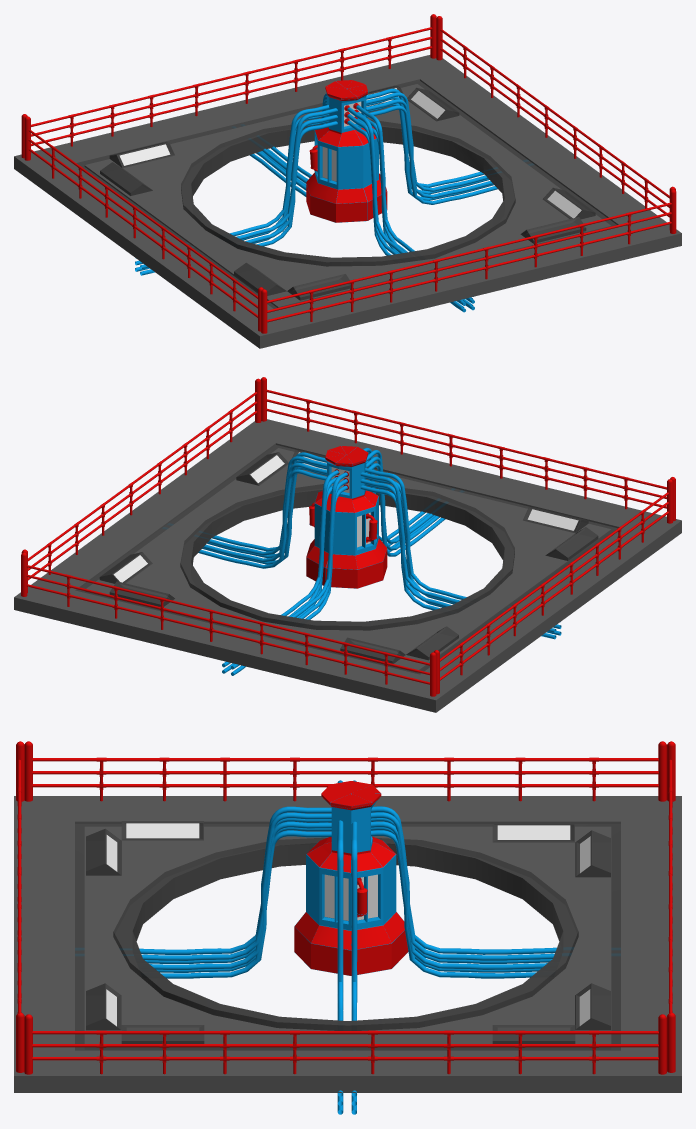
Rendered from centro.fbx.
3 renders of one model, top to bottom at view 1: azimuth 30°, elevation 25°; view 2: azimuth 150°, elevation 25°; view 3: azimuth 270°, elevation 25°, orthographic. The views are drawn at different scales.
Parts seen in each view (by area): view 1: pCube5, pasted__polySurface41, pCylinder37, pCylinder39, pCylinder38, pCube25, pCube26, pCylinder15, pCube24, pCylinder3, pCylinder16, pCube21 (+1 smaller); view 2: pCube5, pasted__polySurface41, pCylinder37, pCylinder39, pCylinder38, pCube26, pCube24, pCylinder3, pCylinder15, pCube25, pCylinder16, pCube20 (+1 smaller); view 3: pCube5, pasted__polySurface41, pCylinder38, pCylinder39, pCube26, pCube24, pCube25, pCylinder37, pCube20, pCube21, pCylinder3.
Part boxes in pixels (bbox=[...]): pCube5: bbox=[14, 55, 681, 348]; pasted__polySurface41: bbox=[135, 80, 497, 312]; pCylinder37: bbox=[21, 14, 436, 158]; pCylinder39: bbox=[24, 116, 263, 331]; pCylinder38: bbox=[436, 16, 675, 229]; pCube25: bbox=[520, 187, 595, 243]; pCube26: bbox=[234, 262, 350, 300]; pCylinder15: bbox=[267, 212, 671, 312]; pCube24: bbox=[366, 86, 459, 121]; pCylinder3: bbox=[267, 202, 671, 303]; pCylinder16: bbox=[267, 221, 671, 322]; pCube21: bbox=[109, 142, 174, 168]; pCube5: bbox=[14, 419, 681, 712]; pasted__polySurface41: bbox=[198, 446, 561, 675]; pCylinder37: bbox=[21, 552, 436, 696]; pCylinder39: bbox=[434, 479, 672, 694]; pCylinder38: bbox=[21, 378, 261, 592]; pCube26: bbox=[523, 507, 598, 560]; pCube24: bbox=[99, 552, 174, 606]; pCylinder3: bbox=[266, 389, 666, 489]; pCylinder15: bbox=[266, 399, 666, 499]; pCube25: bbox=[236, 450, 326, 485]; pCylinder16: bbox=[266, 408, 666, 508]; pCube20: bbox=[406, 626, 458, 660]; pCube5: bbox=[14, 796, 681, 1092]; pasted__polySurface41: bbox=[139, 780, 556, 1114]; pCylinder38: bbox=[24, 1014, 666, 1074]; pCylinder39: bbox=[24, 741, 666, 801]; pCube26: bbox=[86, 821, 203, 875]; pCube24: bbox=[492, 983, 610, 1043]; pCube25: bbox=[86, 983, 204, 1043]; pCylinder37: bbox=[667, 741, 675, 1072]; pCube20: bbox=[492, 823, 574, 842]; pCube21: bbox=[575, 830, 610, 877]; pCylinder3: bbox=[18, 759, 21, 1012].
Bounding box in the file's own units: 24.13 × 7.28 × 24.22.
